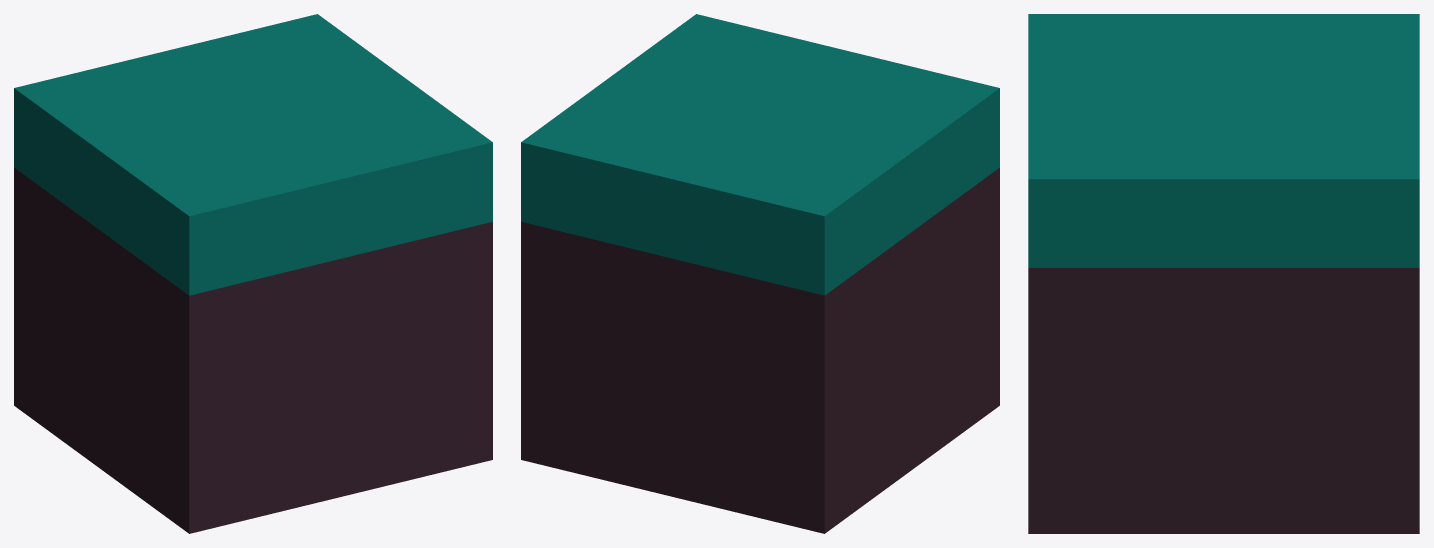
The model's file is corrupted-dirt-block-with-grass.obj.
The picture shows the model from 3 angles, left to right: view 1: azimuth 30°, elevation 25°; view 2: azimuth 150°, elevation 25°; view 3: azimuth 270°, elevation 25°; orthographic projection. The views are drawn at different scales.
Size of the model in its own units: 8 by 8 by 8.
1 material, 1 textured.
